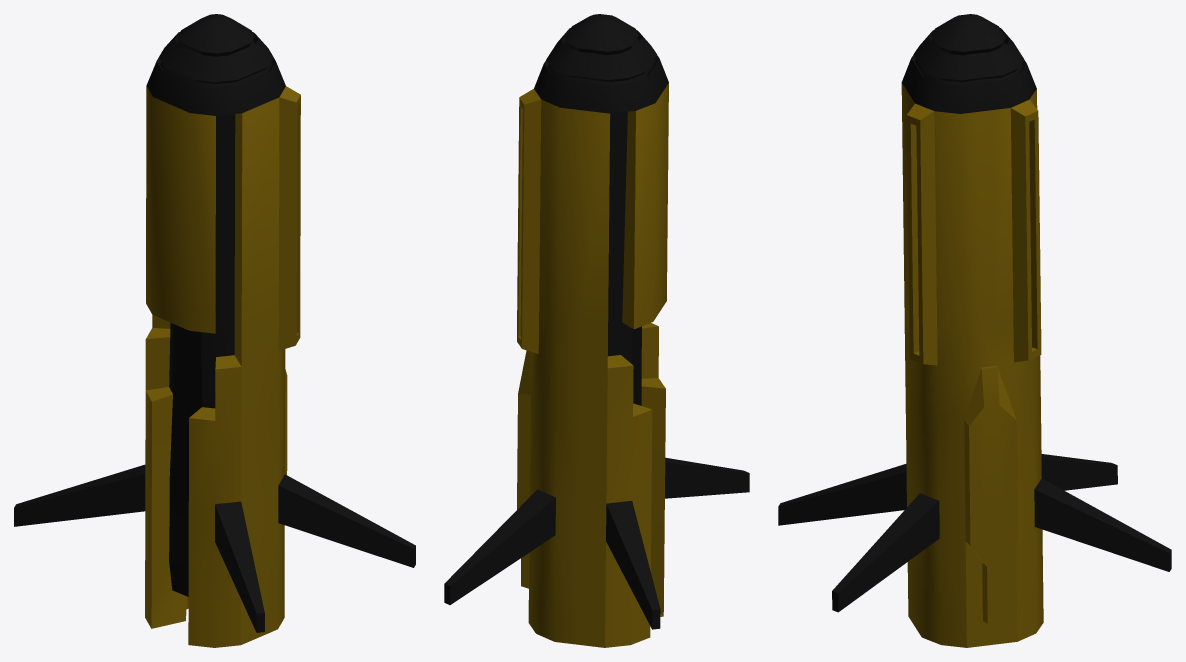
Rendered from missile.fbx.
The picture shows the model from 3 angles, left to right: view 1: azimuth 30°, elevation 25°; view 2: azimuth 150°, elevation 25°; view 3: azimuth 270°, elevation 25°; orthographic projection.
Parts seen in each view (by area): view 1: Cylinder001; view 2: Cylinder001; view 3: Cylinder001.
Boxes of the visible parts, left/top/right/bottom form: Cylinder001: left=14, top=14, right=415, bottom=647; Cylinder001: left=444, top=14, right=749, bottom=647; Cylinder001: left=778, top=14, right=1171, bottom=647.
Bounding box in the file's own units: 20.42 × 44.52 × 26.38.
